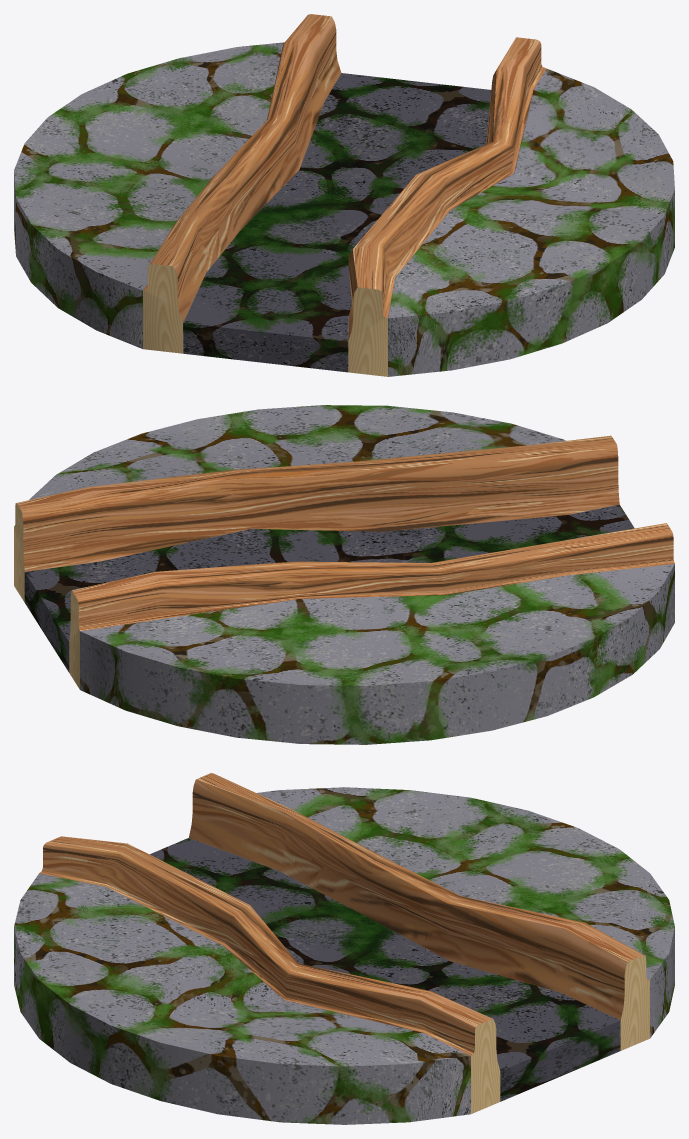
File: StraightCircle.fbx
3 renders of one model, top to bottom at view 1: azimuth 30°, elevation 25°; view 2: azimuth 150°, elevation 25°; view 3: azimuth 270°, elevation 25°, orthographic.
Parts seen in each view (by area): view 1: L_Shape_1; view 2: L_Shape_1; view 3: L_Shape_1.
Boxes of the visible parts, x1,y1,x2,y2 form: L_Shape_1: (14,14,674,376); L_Shape_1: (14,405,674,744); L_Shape_1: (14,773,674,1124).
Bounding box in the file's own units: 216 × 34.45 × 216.
